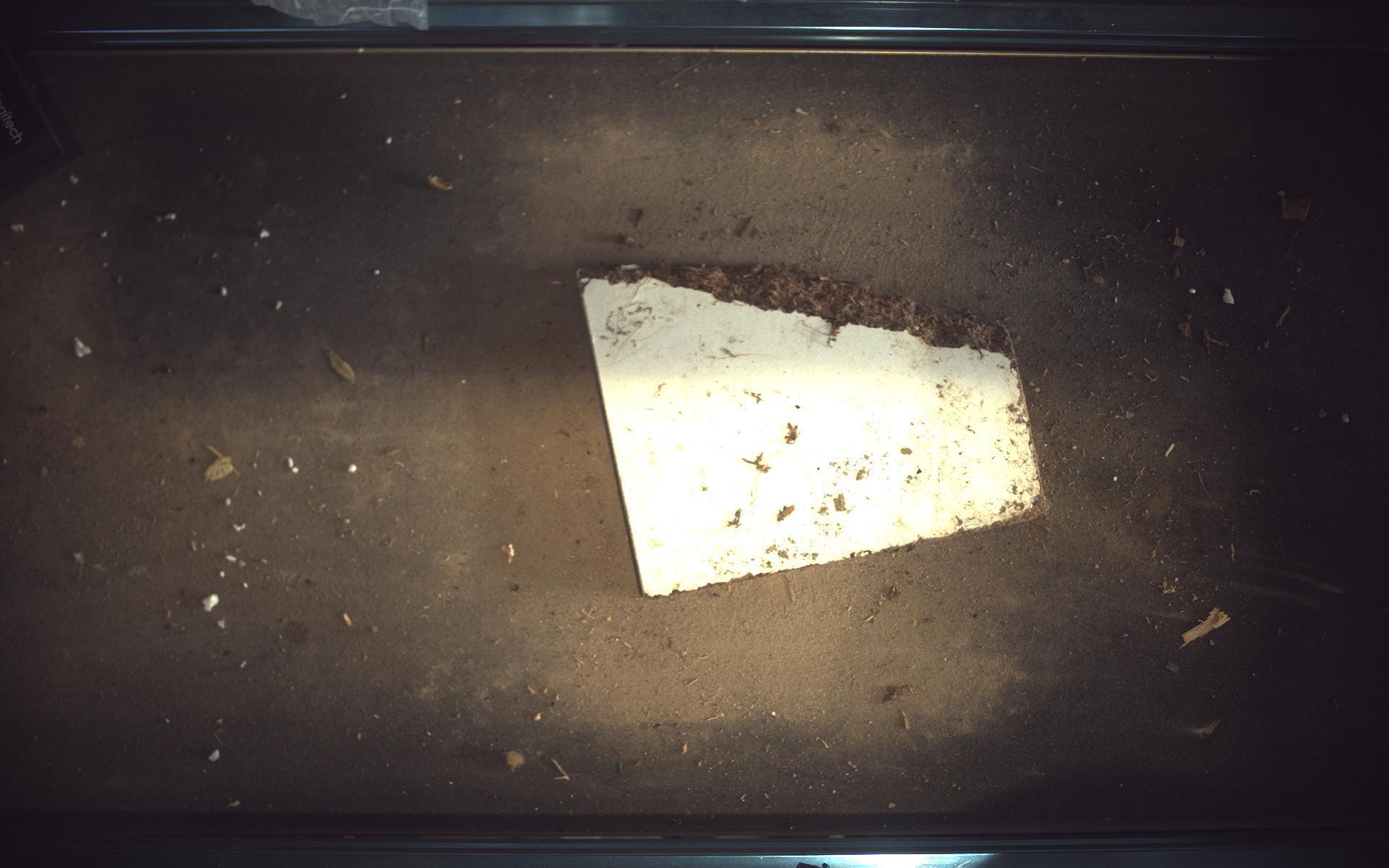wood: (580, 264, 1045, 597)
